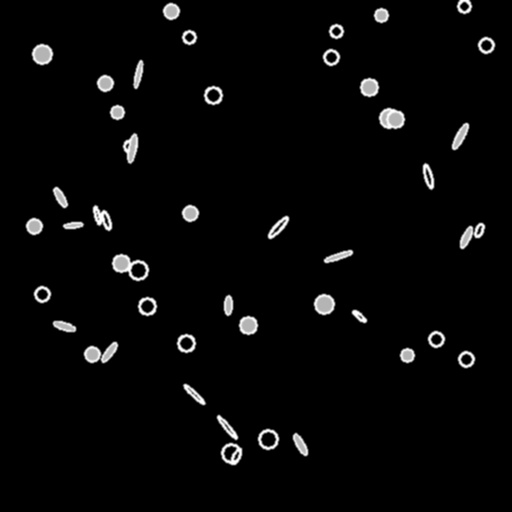pseudomonas: (266, 215, 290, 239), (450, 122, 470, 150), (216, 415, 238, 439), (183, 383, 205, 405), (291, 432, 309, 456), (100, 341, 118, 363), (324, 249, 352, 263), (458, 225, 474, 249), (421, 163, 435, 189), (52, 319, 76, 333), (52, 187, 68, 207), (127, 133, 137, 163), (133, 60, 143, 88), (229, 447, 243, 465), (100, 210, 112, 230), (351, 309, 367, 323), (473, 222, 485, 238), (92, 206, 102, 224), (64, 221, 82, 229), (225, 295, 231, 315)
synechocystis: (259, 430, 277, 448), (222, 444, 240, 462), (380, 109, 398, 127), (33, 45, 51, 63), (315, 295, 333, 313), (129, 261, 147, 279), (240, 317, 256, 333), (178, 335, 194, 351), (387, 111, 403, 127), (139, 298, 155, 314), (113, 255, 129, 271), (205, 87, 221, 103), (361, 79, 377, 95), (98, 76, 112, 90), (27, 219, 41, 233), (85, 347, 99, 361), (324, 50, 338, 64), (35, 287, 49, 301), (479, 38, 493, 52), (183, 206, 197, 220), (164, 4, 178, 18), (429, 332, 443, 346), (459, 352, 473, 366), (330, 25, 342, 37), (401, 349, 413, 361), (124, 140, 136, 152), (375, 9, 387, 21), (183, 31, 195, 43), (111, 106, 123, 118), (458, 0, 470, 12)
